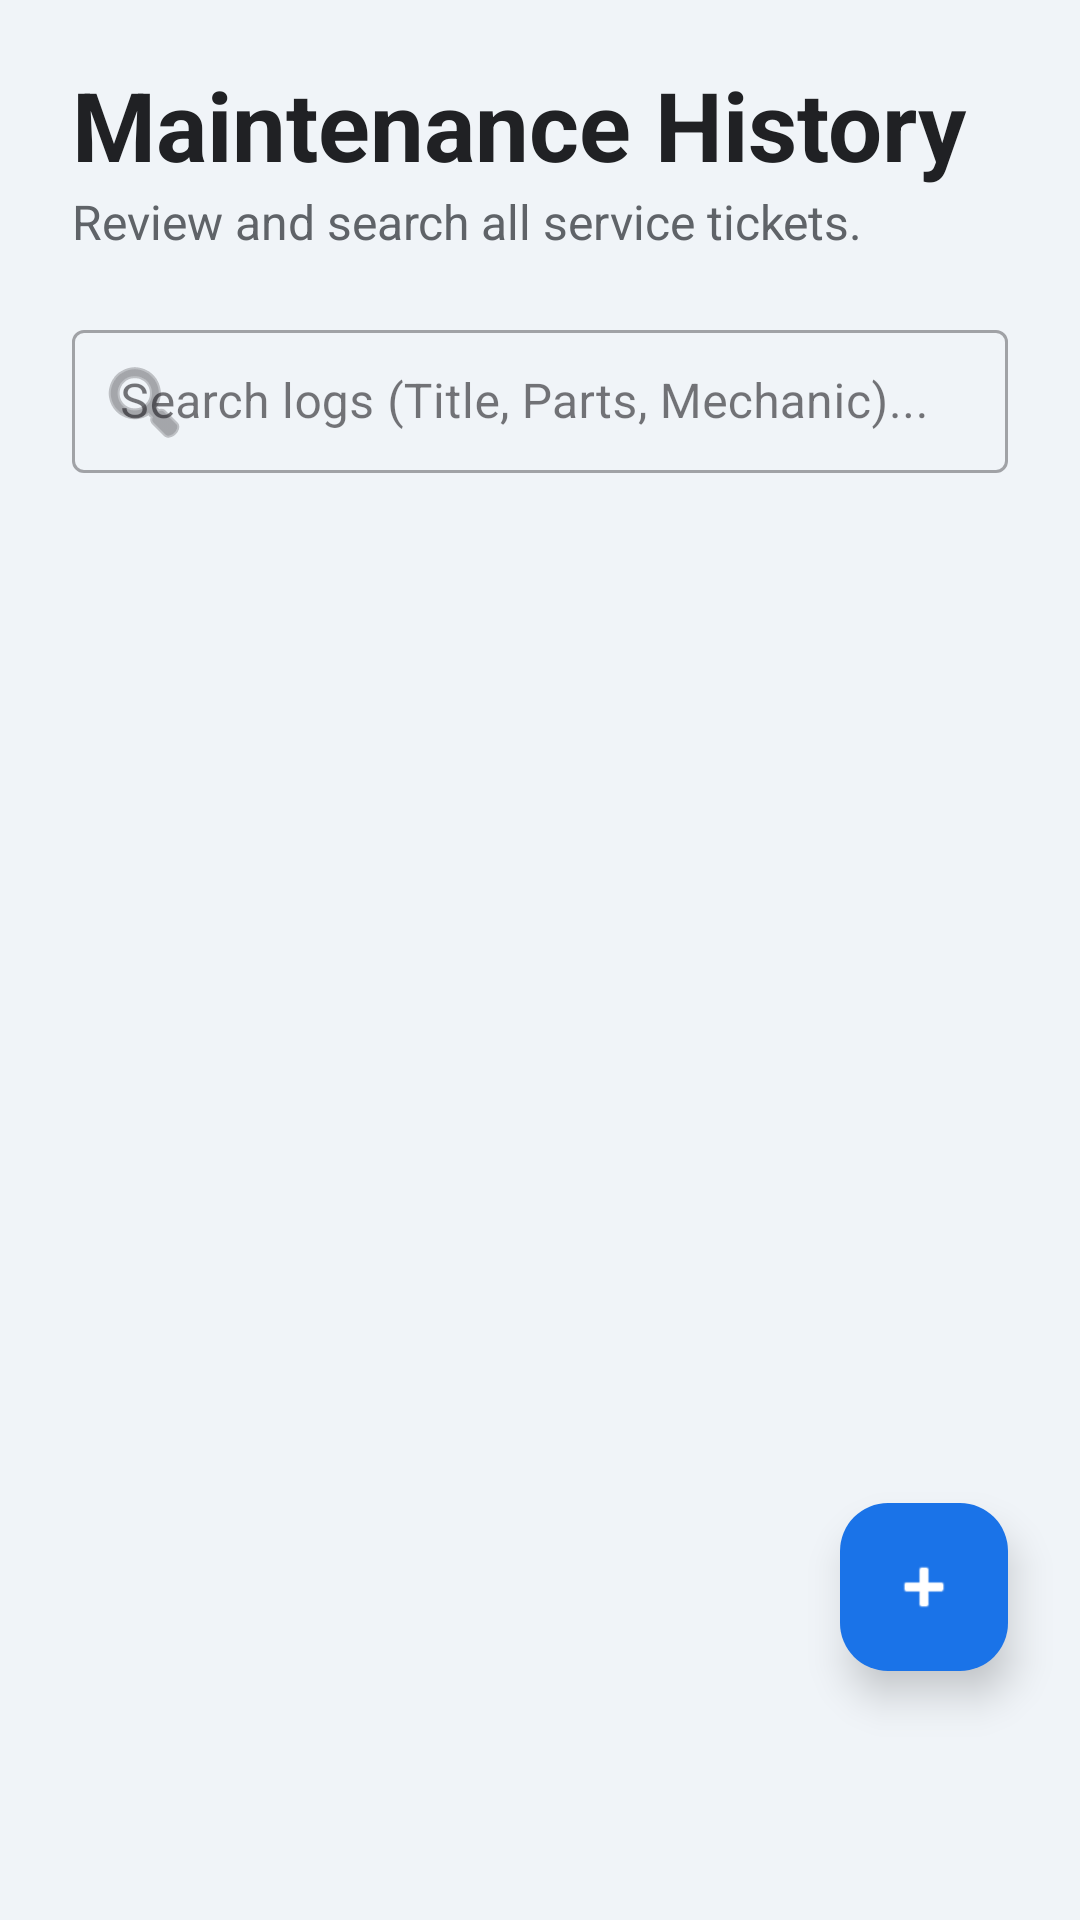

Named icons in this screenshot (1080px×1920px) and their centers, [x,y]:
Add New Ticket: [924,1587]
